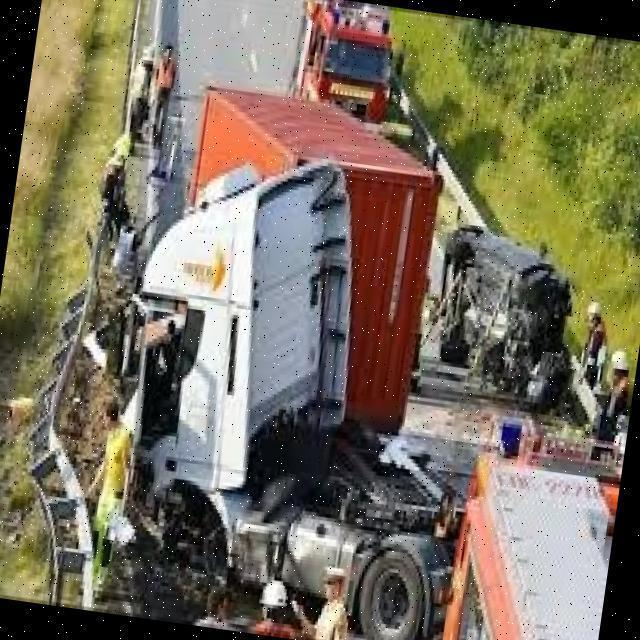accident: (43, 154, 364, 616), (418, 188, 599, 421)
